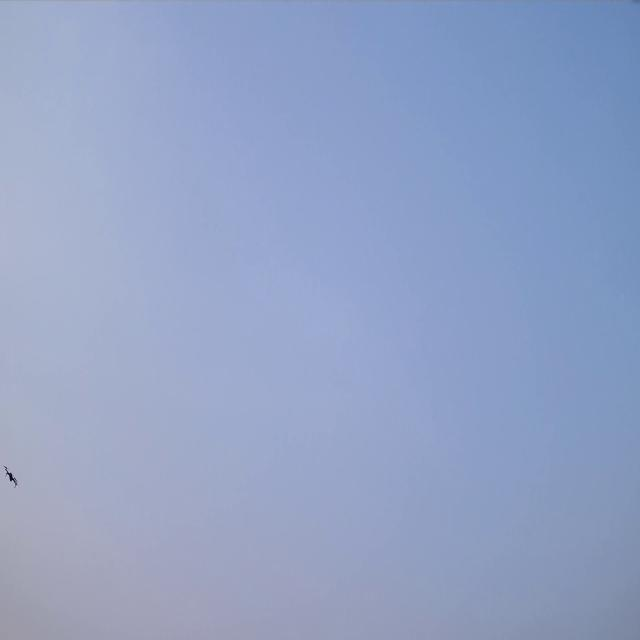UAV: (3, 465, 20, 488)
